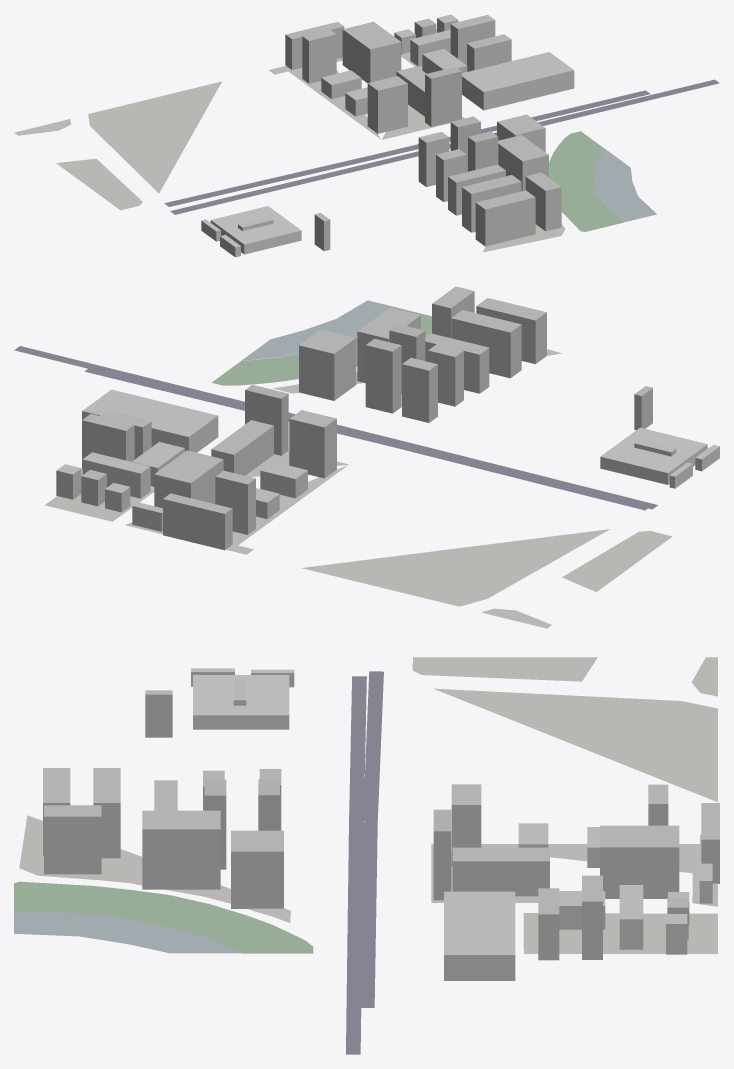
Rendered from 103_104_mid.glb.
The picture shows the model from 3 angles, top to bottom: view 1: azimuth 30°, elevation 25°; view 2: azimuth 150°, elevation 25°; view 3: azimuth 270°, elevation 25°; orthographic projection. The views are drawn at different scales.
Bounding box in the file's own units: 677 × 59.91 × 501.
